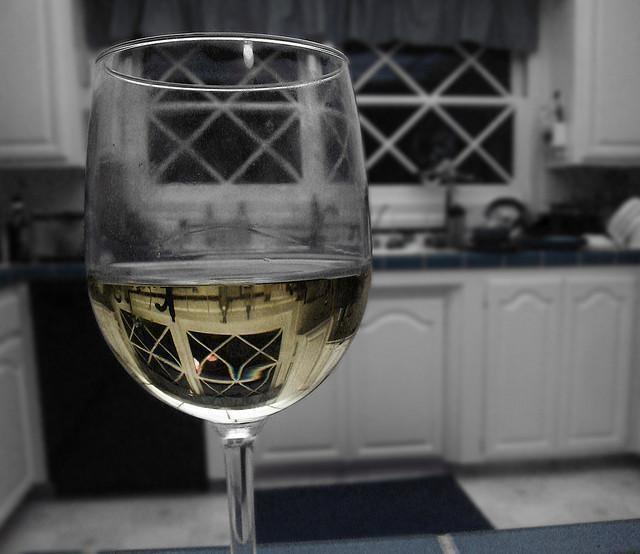glass-wine: (89, 34, 370, 554)
